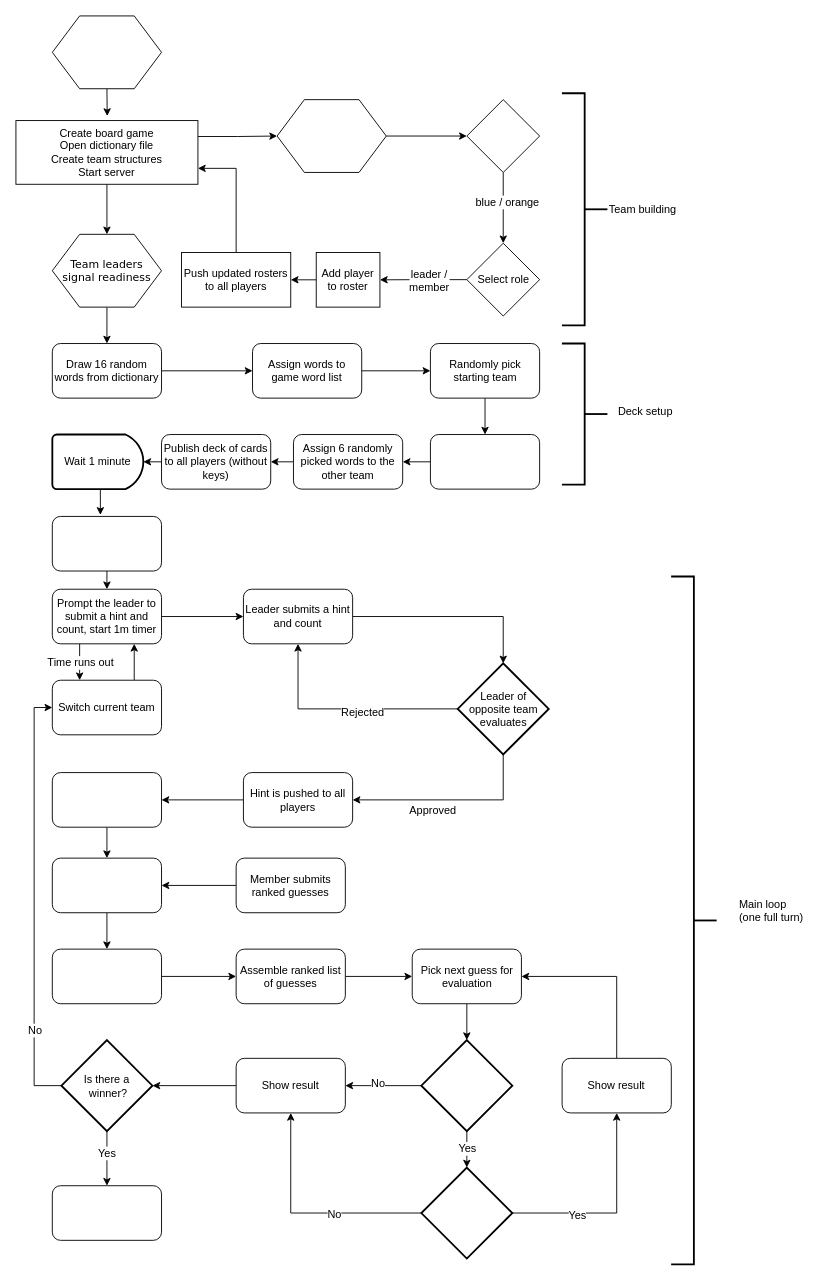
Image size: 835x1281. Some labels were removed from this diagram. The shapes that lost their labels are listed below. From the top down, each one's centre as x and y in pixels, then its label:
At (x=106, y=52): "Game Start".
At (x=331, y=135): "Player joins Enters name".
At (x=503, y=135): "Select team".
At (x=485, y=461): "Assign 7 randomly picked words to starting team".
At (x=106, y=543): "Publish keys to team leaders".
At (x=106, y=799): "Start 1-minute timer".
At (x=106, y=885): "Wait for guesses from team members".
At (x=106, y=976): "All team members submit or time runs out".
At (x=466, y=1085): "Correct?".
At (x=106, y=1212): "Game over! Display results".
At (x=466, y=1212): "Are there more guesses?".
